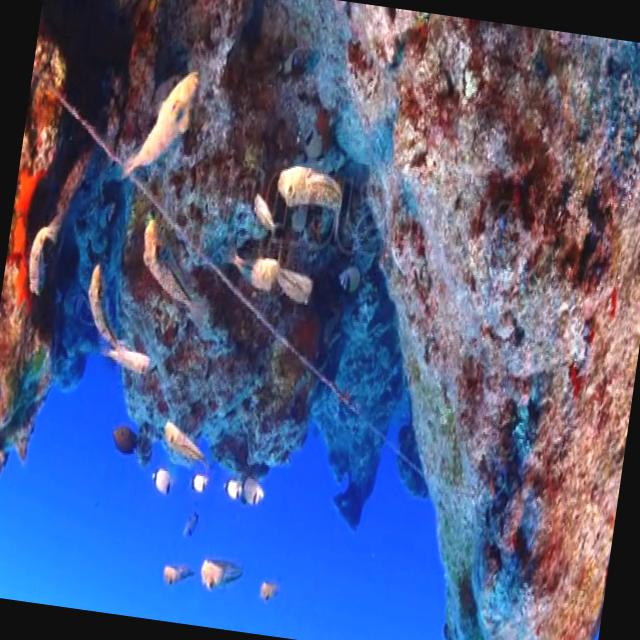Balon Baligi: (128, 216, 220, 322), (125, 62, 202, 185), (274, 154, 351, 218), (76, 260, 130, 350), (22, 207, 62, 300), (198, 550, 240, 596), (157, 421, 205, 461), (146, 557, 192, 597), (244, 191, 282, 237), (250, 568, 288, 610)
